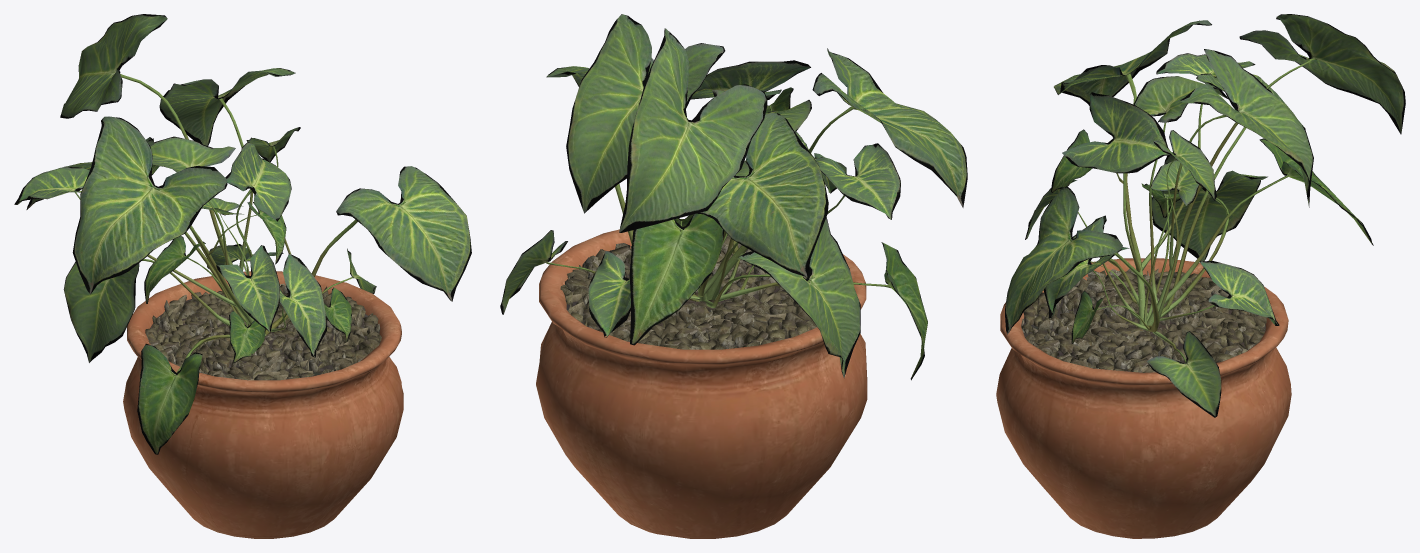
The model's file is potted_plant_02.glb.
3 renders of one model, left to right at view 1: azimuth 30°, elevation 25°; view 2: azimuth 150°, elevation 25°; view 3: azimuth 270°, elevation 25°, orthographic. The views are drawn at different scales.
Visible parts, largest first — view 1: leaves, pot; view 2: leaves, pot; view 3: pot, leaves.
Part boxes in pixels (box(x1,y1,x2,y2)): leaves: box(14, 14, 471, 454); pot: box(123, 271, 403, 538); leaves: box(500, 14, 967, 380); pot: box(536, 229, 867, 538); pot: box(996, 258, 1291, 538); leaves: box(1005, 14, 1405, 417).
Bounding box in the file's own units: 0.7009 × 0.8411 × 0.6574.
Materials: 2 (2 with a texture image).
